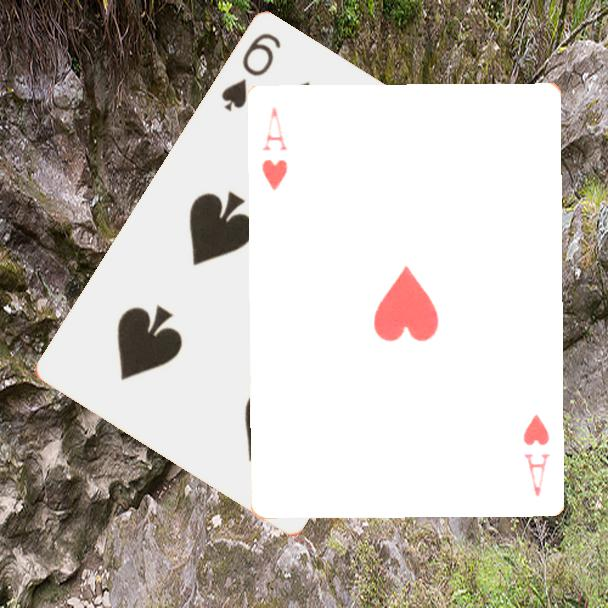h01: (519, 410, 553, 499), (258, 103, 290, 193)
s06: (217, 30, 285, 115)
